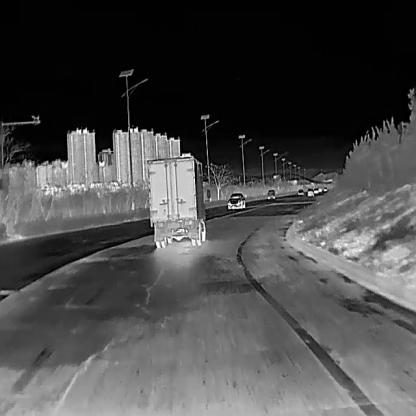car: (226, 191, 244, 208), (266, 188, 275, 198), (306, 187, 313, 195), (296, 187, 304, 194), (317, 185, 322, 192), (322, 185, 327, 191), (312, 187, 318, 192)
truck: (145, 154, 209, 247)
